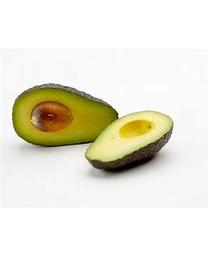avocado: (12, 82, 122, 149), (83, 110, 175, 173)
